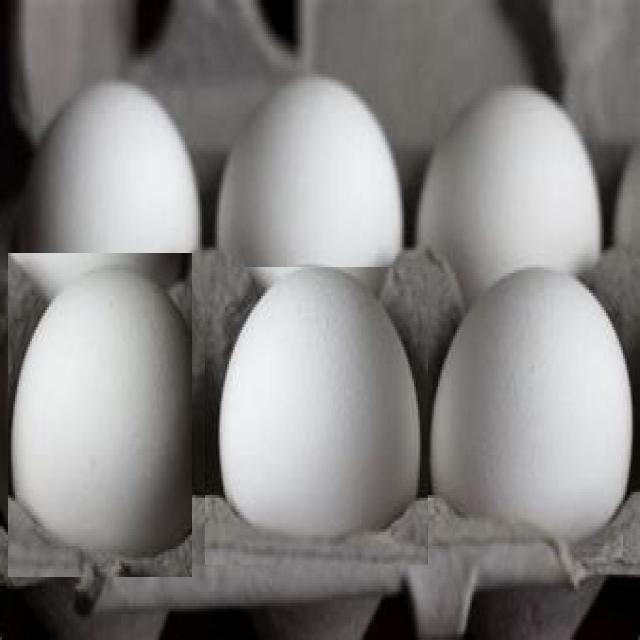Egg: (205, 267, 428, 565), (433, 268, 631, 575), (9, 253, 192, 577)
